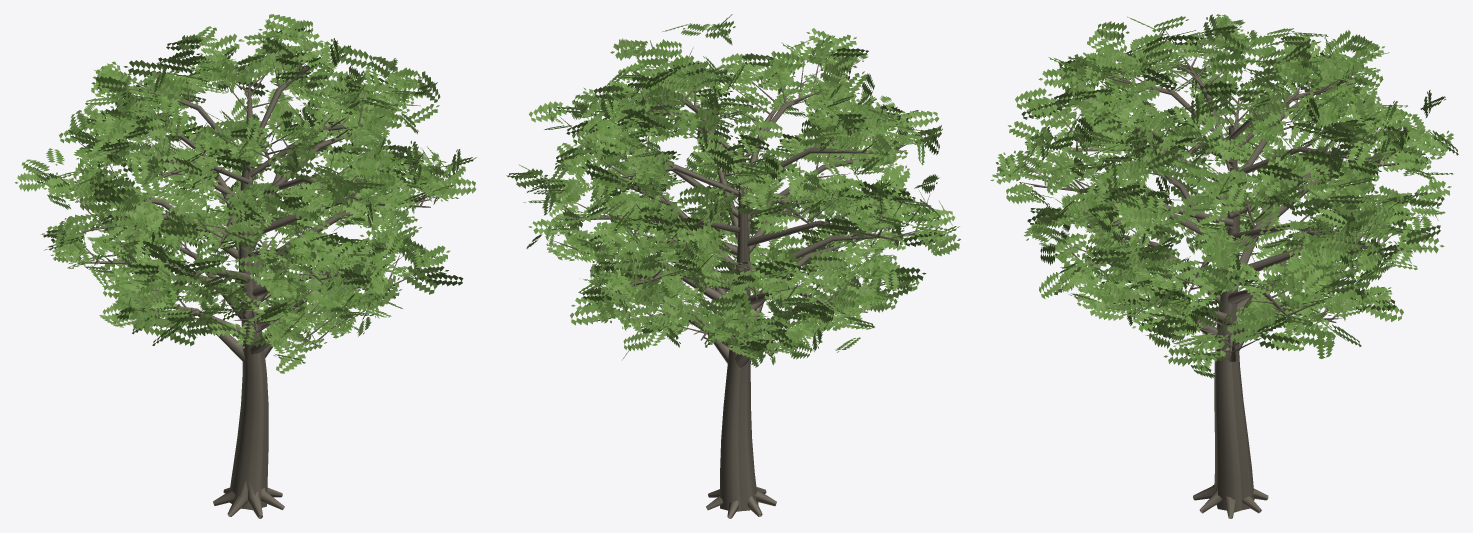
File: black-walnut.glb
The picture shows the model from 3 angles, left to right: view 1: azimuth 30°, elevation 25°; view 2: azimuth 150°, elevation 25°; view 3: azimuth 270°, elevation 25°; orthographic projection. The views are drawn at different scales.
Parts seen in each view (by area): view 1: Compound black walnut foliage, Juglans nigra ridged trunk and spreading branches; view 2: Compound black walnut foliage, Juglans nigra ridged trunk and spreading branches; view 3: Compound black walnut foliage, Juglans nigra ridged trunk and spreading branches.
Boxes of the visible parts, left/top/right/bottom form: Compound black walnut foliage: left=14, top=14, right=476, bottom=373; Juglans nigra ridged trunk and spreading branches: left=49, top=39, right=444, bottom=518; Compound black walnut foliage: left=506, top=14, right=960, bottom=367; Juglans nigra ridged trunk and spreading branches: left=538, top=47, right=930, bottom=518; Compound black walnut foliage: left=990, top=14, right=1458, bottom=378; Juglans nigra ridged trunk and spreading branches: left=1020, top=25, right=1431, bottom=518.
Bounding box in the file's own units: 16.17 × 17.15 × 15.58.
